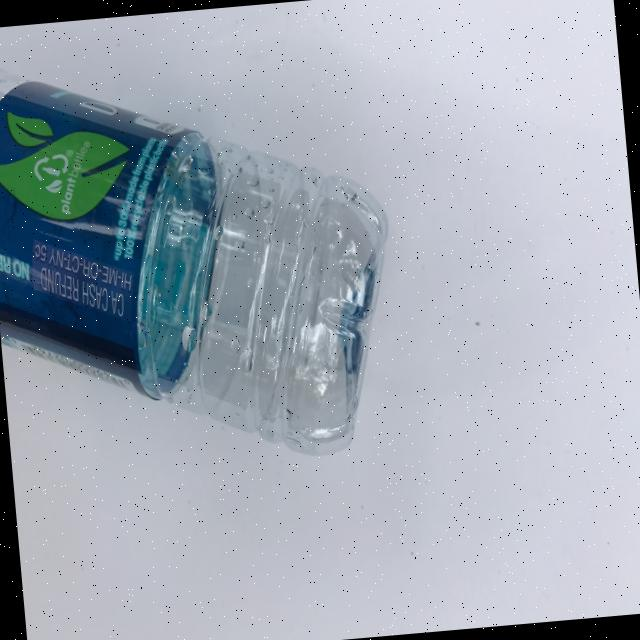plastic: (0, 28, 408, 483)
